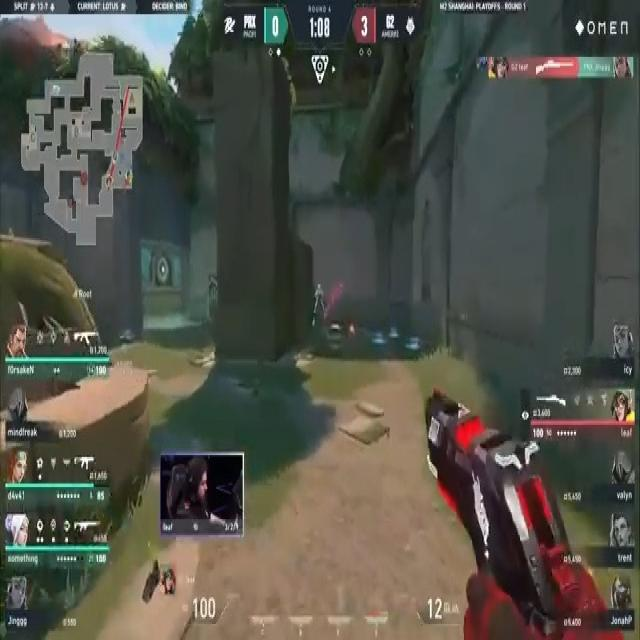ally: (316, 282, 326, 323)
